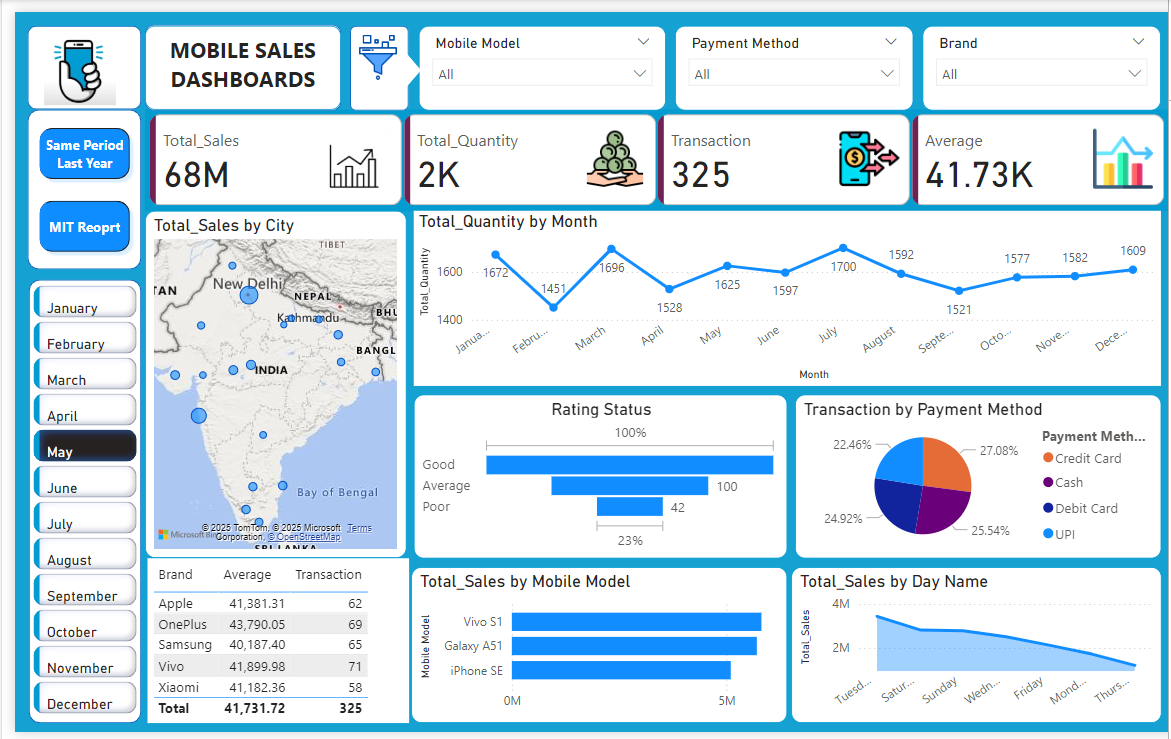

The dashboard page shown, as its layout file describes it:
{"tool":"powerbi","page":{"name":"Dashboard","canvas":[1280,720],"ordinal":0},"visuals":[{"type":"shape","box":[12.5,13.8,113.8,83.8],"z":0},{"type":"image","box":[13.7,19.2,102.9,79.6],"z":1000},{"type":"shape","box":[12.5,97.5,113.8,160],"z":2000},{"type":"shape","box":[13.8,267.5,112.5,443.8],"z":3000},{"type":"advancedSlicerVisual","fields":{"Values":["Customem Calender.Date.Variation.Date Hierarchy.Month"]},"box":[13.8,268.8,113.8,443.8],"z":4000},{"type":"cardVisual","fields":{"Data":["Mobile Sales Data.Total_Sales","Mobile Sales Data.Total_Quantity","Mobile Sales Data.Transaction","Mobile Sales Data.Average"]},"box":[130.4,97.4,1025,101.5],"z":5000},{"type":"slicer","fields":{"Values":["Mobile Sales Data.Mobile Model"]},"box":[403.8,13.8,247.5,85],"z":6000},{"type":"slicer","fields":{"Values":["Mobile Sales Data.Payment Method"]},"box":[660,13.8,238.8,85],"z":7000},{"type":"slicer","fields":{"Values":["Mobile Sales Data.Brand"]},"box":[907.5,13.8,238.8,85],"z":8000},{"type":"shape","box":[335,13.8,58.8,85],"z":9000},{"type":"image","box":[335,3.8,56.2,83.8],"z":10000},{"type":"shape","box":[375,40,31.2,36.2],"z":11000},{"type":"shape","box":[130,12.5,196.2,86.2],"z":12000},{"type":"textbox","box":[130,13.8,196.2,83.8],"z":13000},{"type":"map","fields":{"Category":["Mobile Sales Data.City"],"Size":["Mobile Sales Data.Total_Sales"]},"box":[130,198.8,261.2,347.5],"z":14000},{"type":"lineChart","fields":{"Category":["Customem Calender.Date.Variation.Date Hierarchy.Month"],"Y":["Mobile Sales Data.Total_Quantity"]},"box":[398.8,198.8,747.5,175],"z":15000},{"type":"funnel","title":" Rating Status","fields":{"Y":["CountNonNull(Mobile Sales Data.Customer Age)"],"Category":["Mobile Sales Data.Rating Status"]},"box":[398.8,382.5,373.8,163.8],"z":16000},{"type":"pieChart","fields":{"Y":["Mobile Sales Data.Transaction"],"Category":["Mobile Sales Data.Payment Method"]},"box":[780,382.5,366.2,163.8],"z":17000},{"type":"clusteredBarChart","fields":{"Y":["Mobile Sales Data.Total_Sales"],"Category":["Mobile Sales Data.Mobile Model"]},"box":[396.2,555,376.2,156.2],"z":18000},{"type":"areaChart","fields":{"Y":["Mobile Sales Data.Total_Sales"],"Category":["Customem Calender.Day Name"]},"box":[776.2,555,370,156.2],"z":19000},{"type":"tableEx","fields":{"Values":["Mobile Sales Data.Brand","Mobile Sales Data.Average","Mobile Sales Data.Transaction"]},"box":[132.5,546.2,261.2,165],"z":20000},{"type":"pageNavigator","box":[18.8,110,102.5,137.5],"z":20001}]}

Visuals, with their boxes on the page's 1280x720 design canvas (x1, y1, x2, y2). These are canvas units, not pixel positions in the 1171x739 screenshot, which may show the page scaled, cropped or inside an application window:
shape: rect(12, 14, 126, 98)
image: rect(14, 19, 117, 99)
shape: rect(12, 98, 126, 258)
shape: rect(14, 268, 126, 711)
advancedSlicerVisual - Customem Calender.Date.Variation.Date Hierarchy.Month: rect(14, 269, 128, 713)
cardVisual - Mobile Sales Data.Total_Sales x Mobile Sales Data.Total_Quantity: rect(130, 97, 1155, 199)
slicer - Mobile Sales Data.Mobile Model: rect(404, 14, 651, 99)
slicer - Mobile Sales Data.Payment Method: rect(660, 14, 899, 99)
slicer - Mobile Sales Data.Brand: rect(908, 14, 1146, 99)
shape: rect(335, 14, 394, 99)
image: rect(335, 4, 391, 88)
shape: rect(375, 40, 406, 76)
shape: rect(130, 12, 326, 99)
textbox: rect(130, 14, 326, 98)
map - Mobile Sales Data.City x Mobile Sales Data.Total_Sales: rect(130, 199, 391, 546)
lineChart - Customem Calender.Date.Variation.Date Hierarchy.Month x Mobile Sales Data.Total_Quantity: rect(399, 199, 1146, 374)
" Rating Status" funnel: rect(399, 382, 773, 546)
pieChart - Mobile Sales Data.Transaction x Mobile Sales Data.Payment Method: rect(780, 382, 1146, 546)
clusteredBarChart - Mobile Sales Data.Total_Sales x Mobile Sales Data.Mobile Model: rect(396, 555, 772, 711)
areaChart - Mobile Sales Data.Total_Sales x Customem Calender.Day Name: rect(776, 555, 1146, 711)
tableEx - Mobile Sales Data.Brand x Mobile Sales Data.Average: rect(132, 546, 394, 711)
pageNavigator: rect(19, 110, 121, 248)
